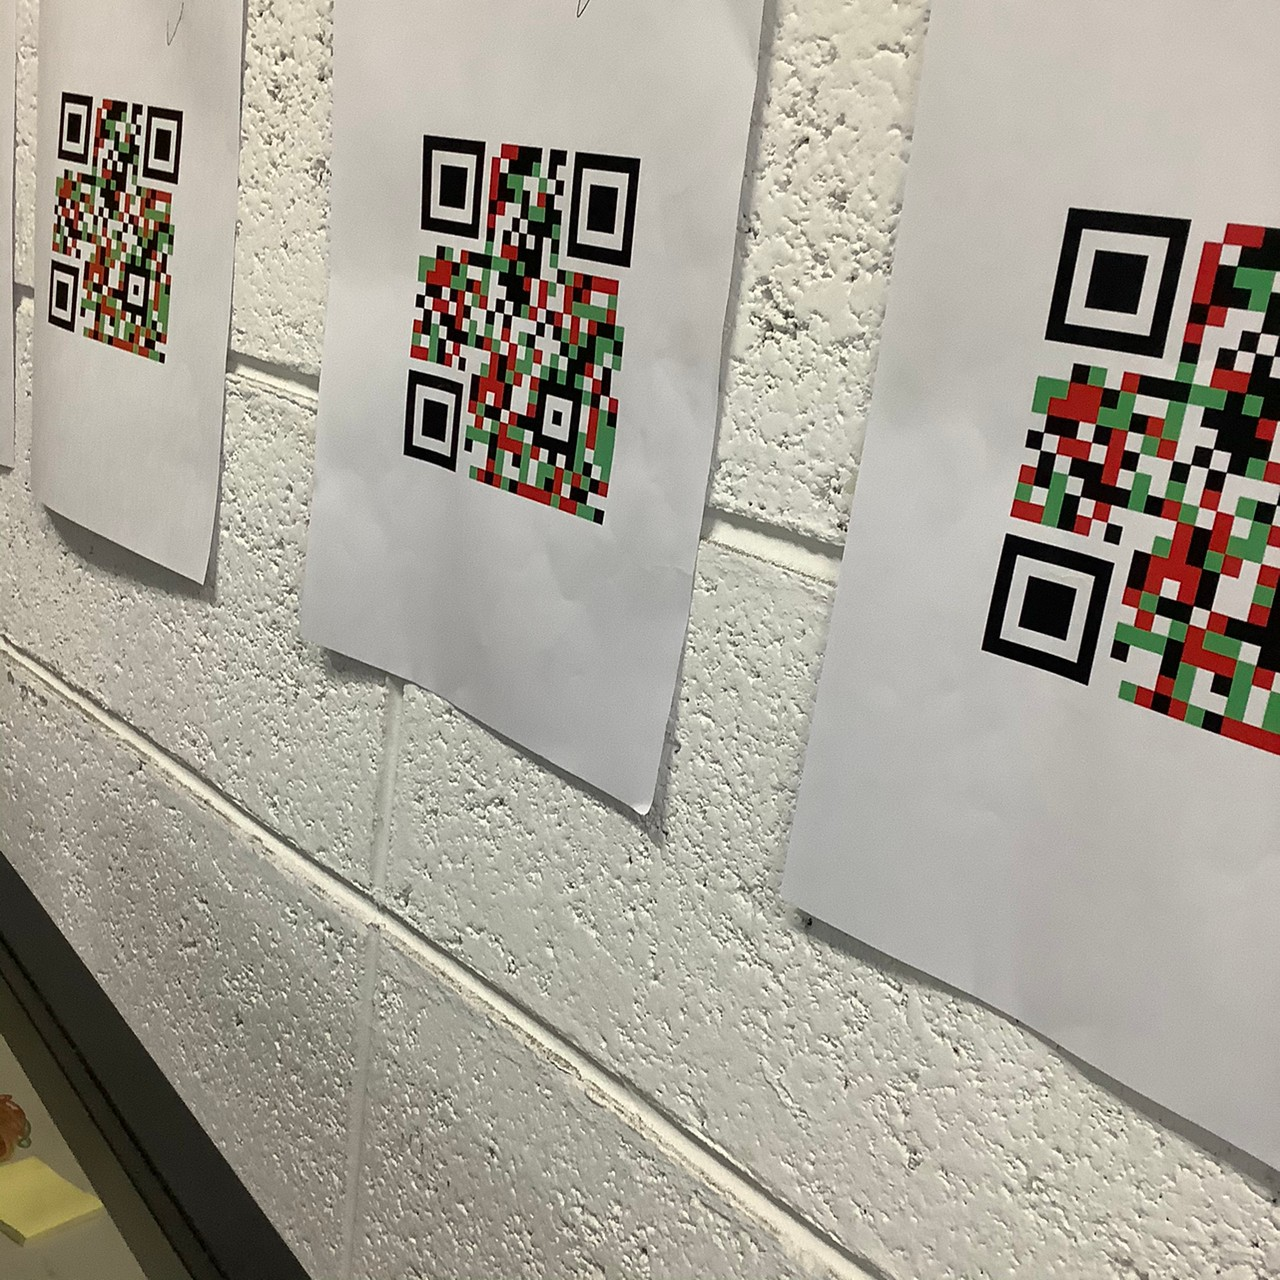QRCode: (980, 207, 1280, 755), (403, 132, 644, 530), (47, 93, 184, 366)
